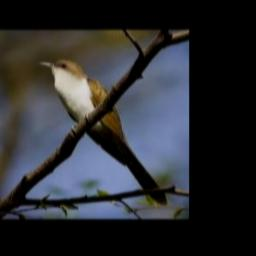Cuckoo: (38, 60, 168, 204)
